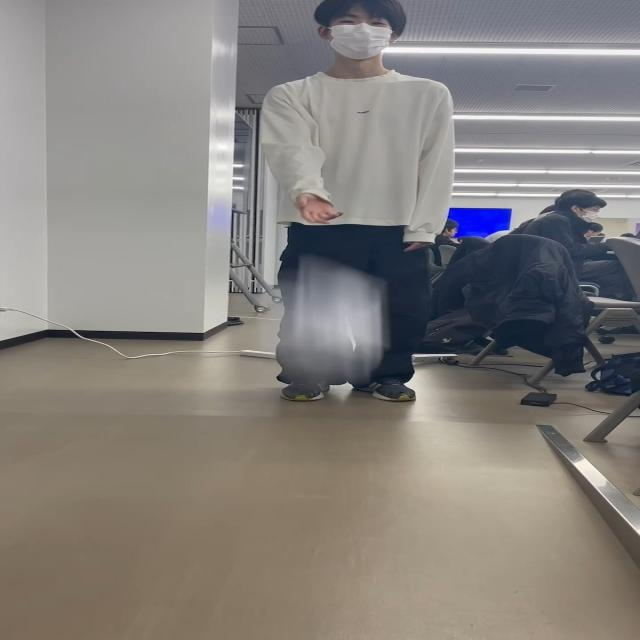paper: (272, 258, 386, 386)
